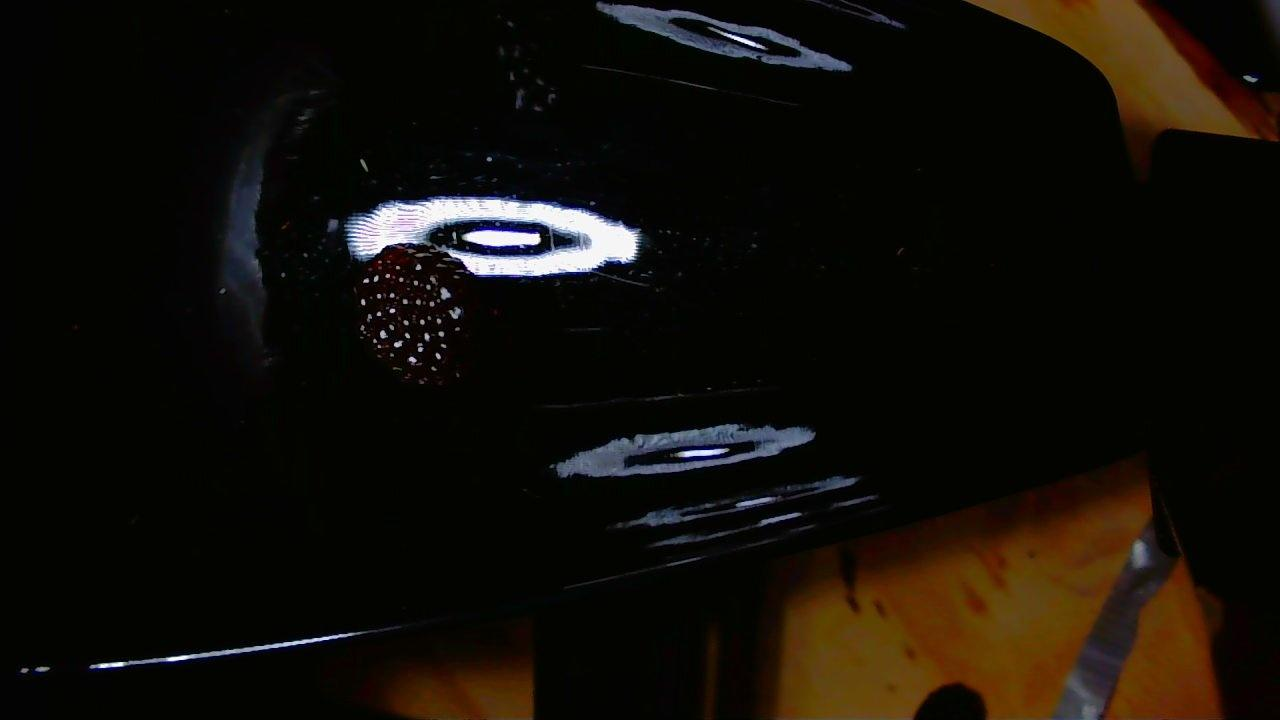berry: (355, 243, 479, 385)
